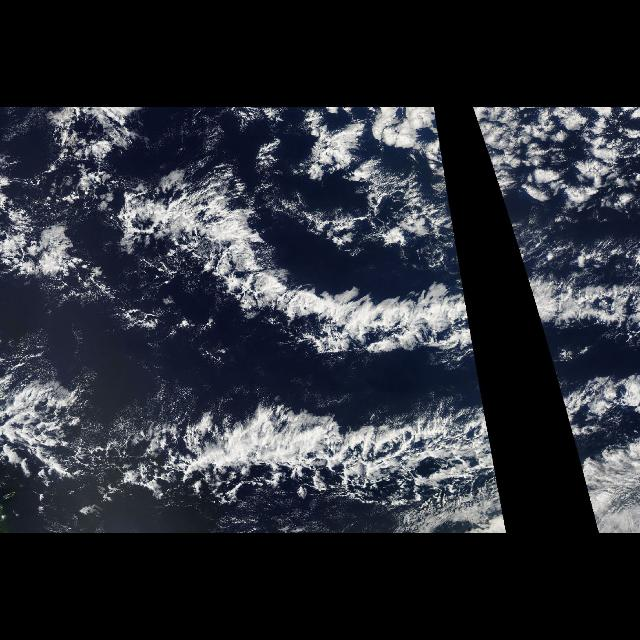Fish: (7, 162, 505, 514), (520, 254, 632, 514)
Flower: (472, 112, 638, 255), (300, 112, 458, 255)
